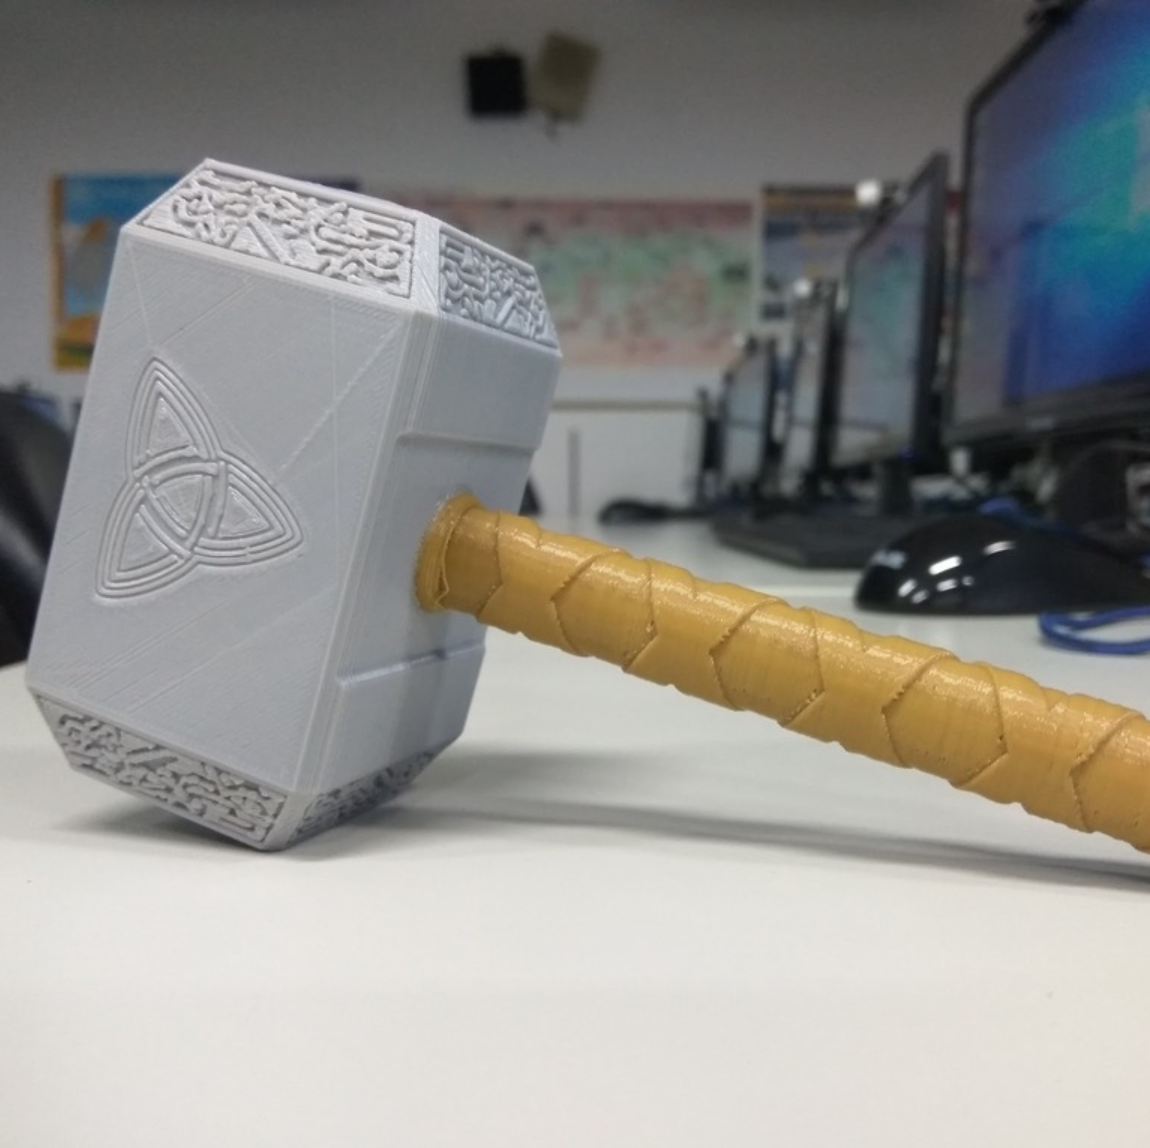THOR Hammer: (25, 80, 1121, 1036)
